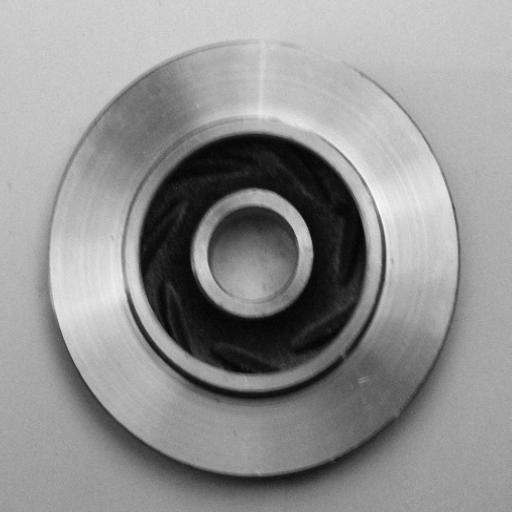unpolished_casting: (45, 35, 463, 481)
